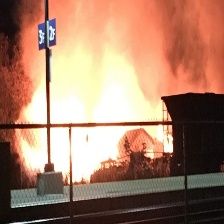fire: (18, 57, 168, 174)
